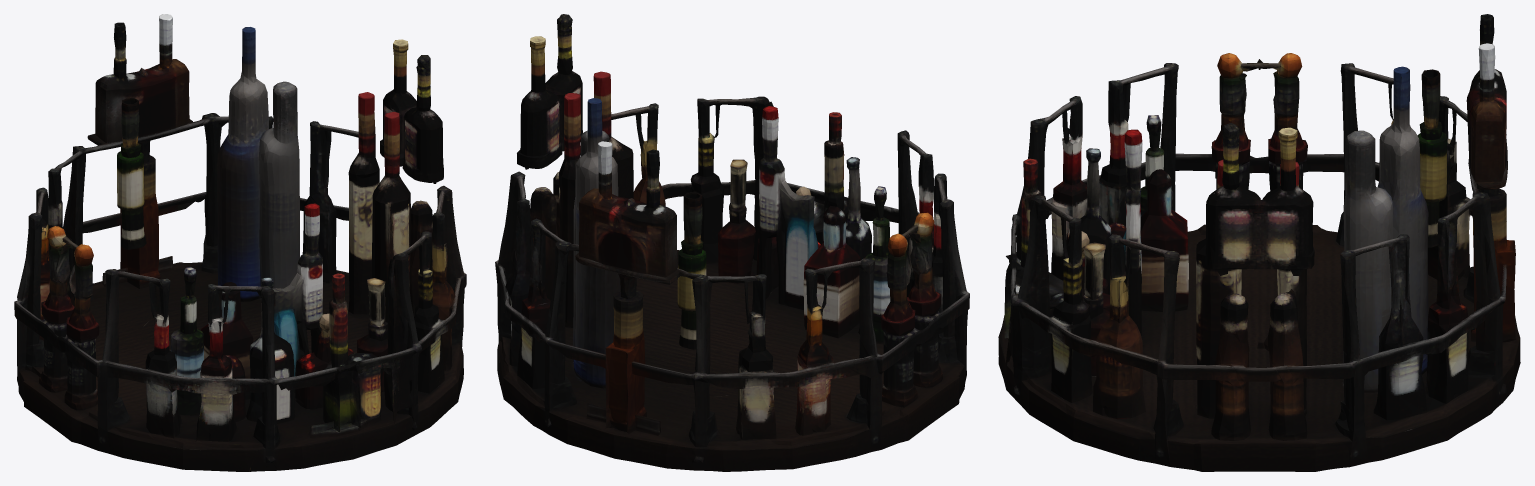
Rendered from trellis_1789118775285_zc7p4.glb.
3 views of the same model, side by side, from view 1: azimuth 30°, elevation 25°; view 2: azimuth 150°, elevation 25°; view 3: azimuth 270°, elevation 25° (orthographic). The views are drawn at different scales.
Parts seen in each view (by area): view 1: world; view 2: world; view 3: world.
Boxes of the visible parts, left/top/right/bottom form: world: left=14, top=14, right=466, bottom=471; world: left=495, top=14, right=969, bottom=471; world: left=998, top=14, right=1520, bottom=471.
Bounding box in the file's own units: 0.9878 × 0.7102 × 0.9989.
Materials: 1 (1 with a texture image).
